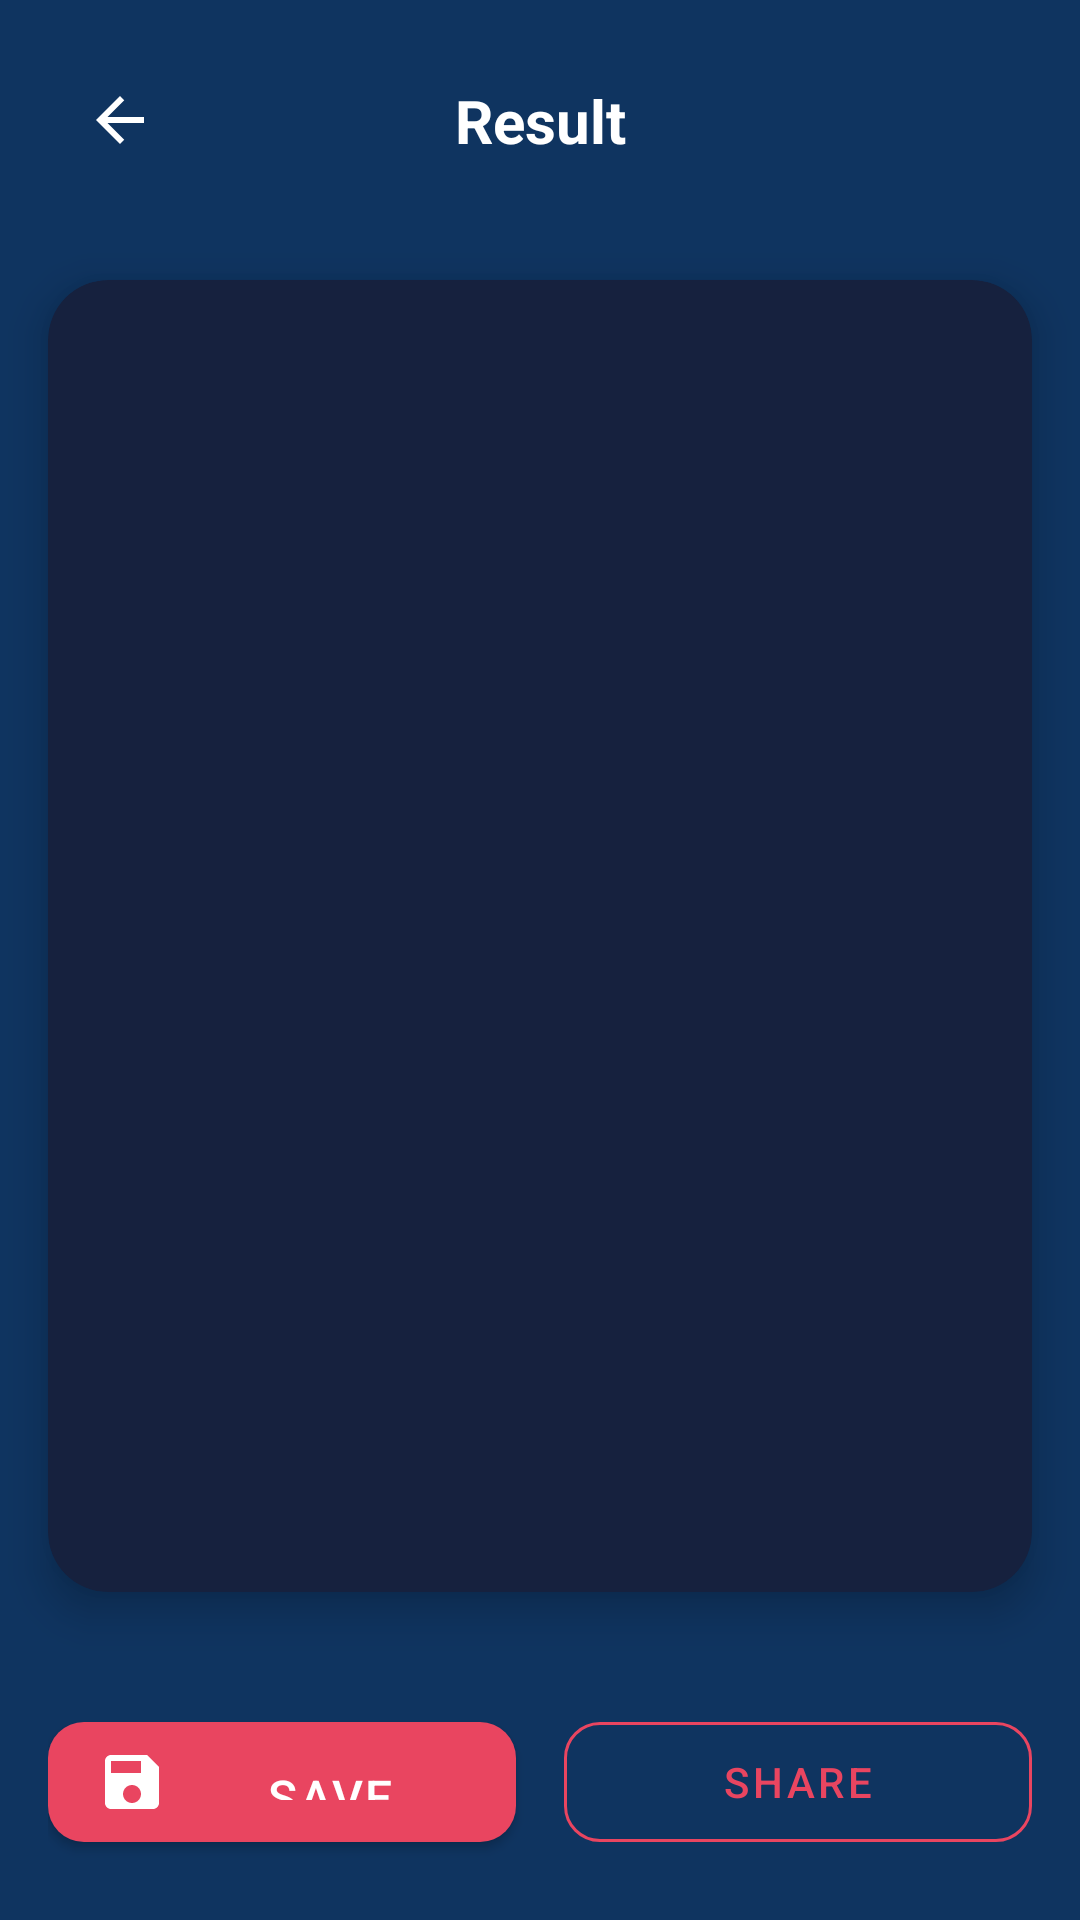

Point at icon controls on the screen. Image size 1080×1920, points as [x,y].
back: [120,120]
